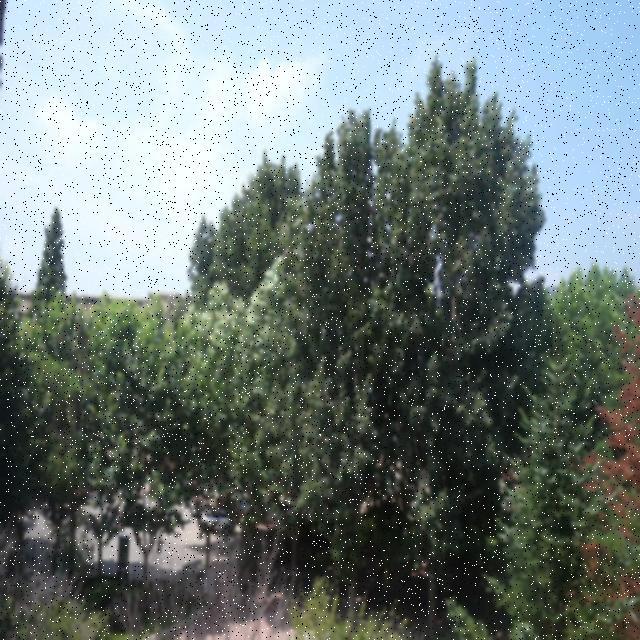UAV: (306, 224, 316, 232)
